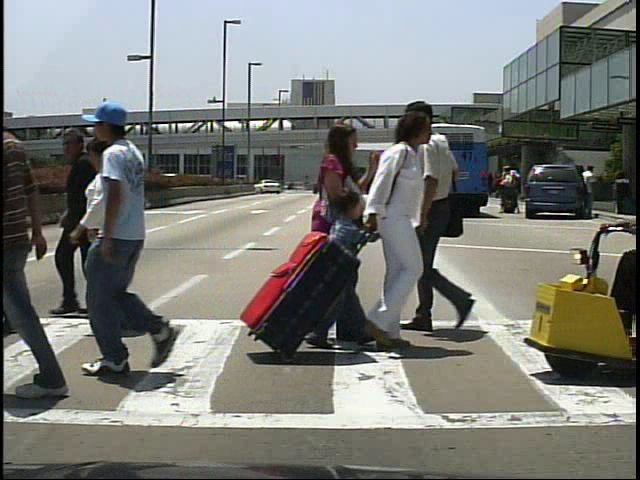person: (84, 105, 192, 388), (345, 118, 445, 369), (403, 98, 478, 346), (305, 121, 375, 358), (76, 138, 141, 332), (54, 128, 112, 322), (316, 181, 364, 319), (582, 164, 602, 218), (503, 165, 523, 215), (498, 166, 516, 219)
